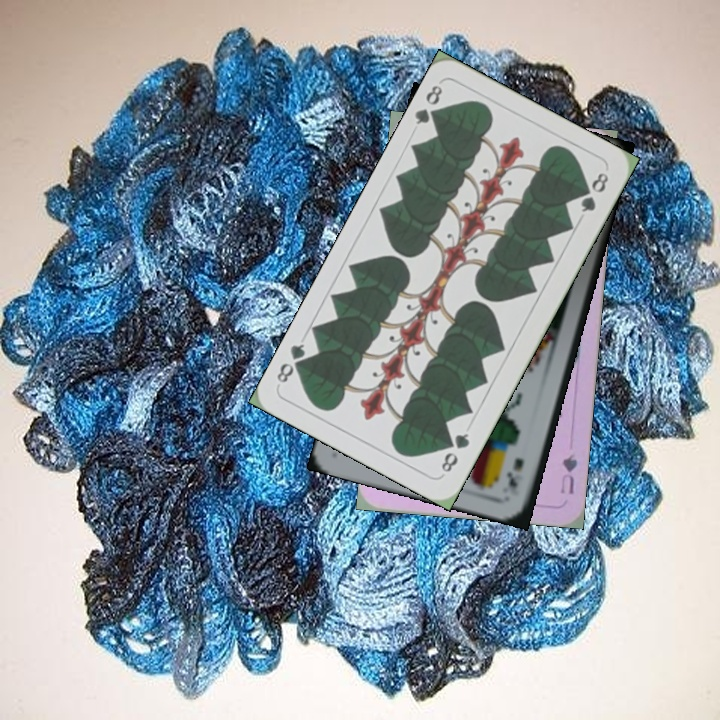EK: (504, 453, 526, 491)
G8: (411, 81, 446, 128), (437, 429, 472, 475)
GU: (557, 449, 580, 497)
